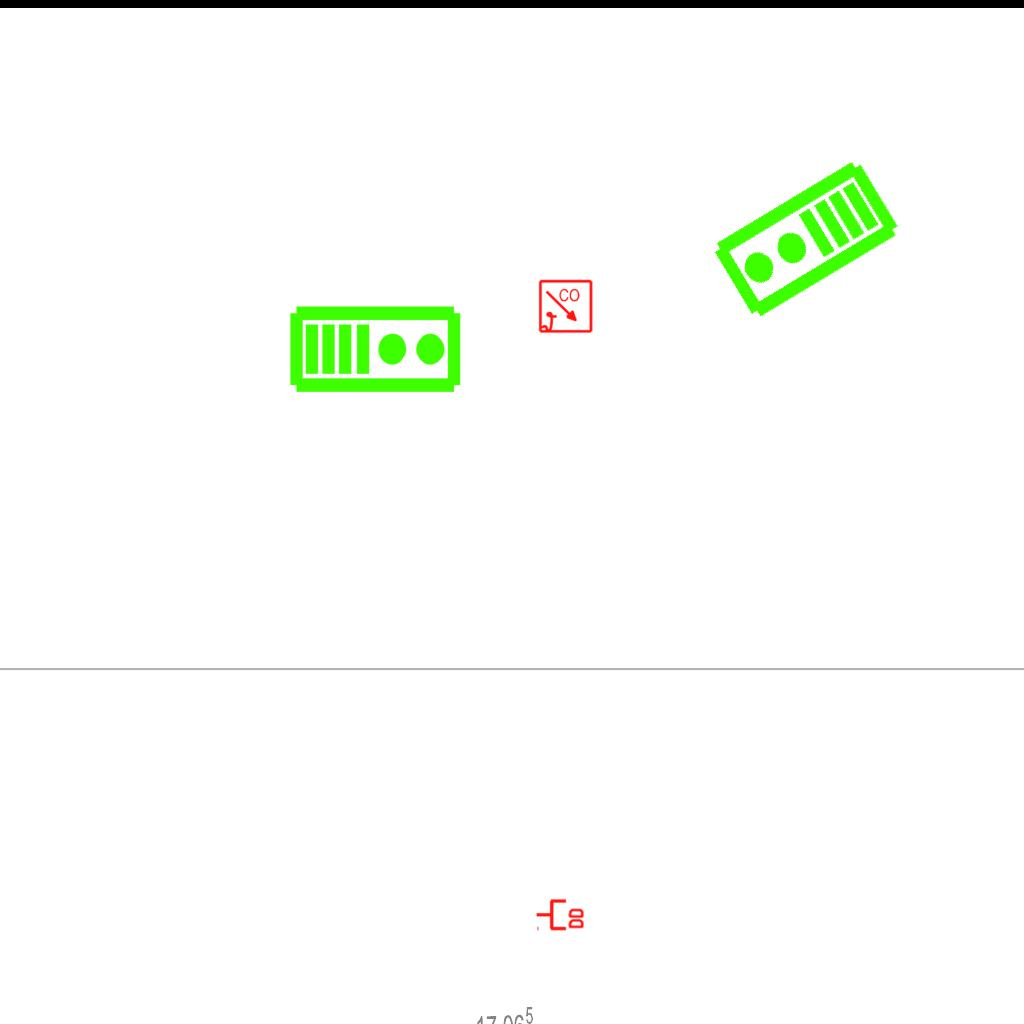Datenanschluss_zweifach: (535, 897, 586, 931)
Gegensprechanlage_mit_Video: (706, 154, 907, 328), (288, 300, 464, 395)
ROA_Rauchmelder_optisch_mit_Signalgeber_(Sockelsirene): (538, 279, 594, 335)
